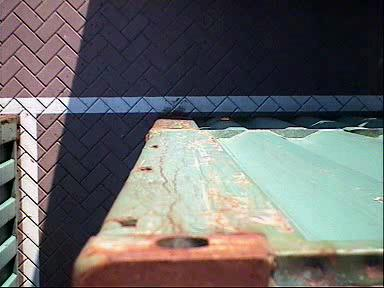groundmarker_2: (180, 156, 231, 215)
